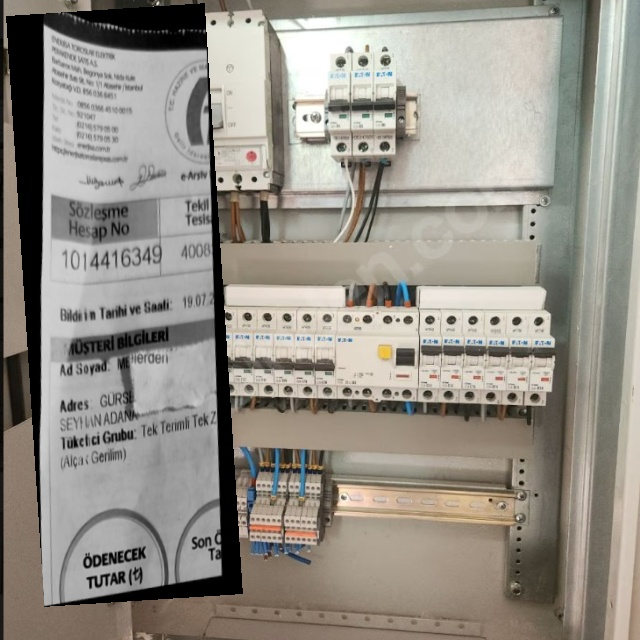electricity-bill: (6, 2, 242, 606)
